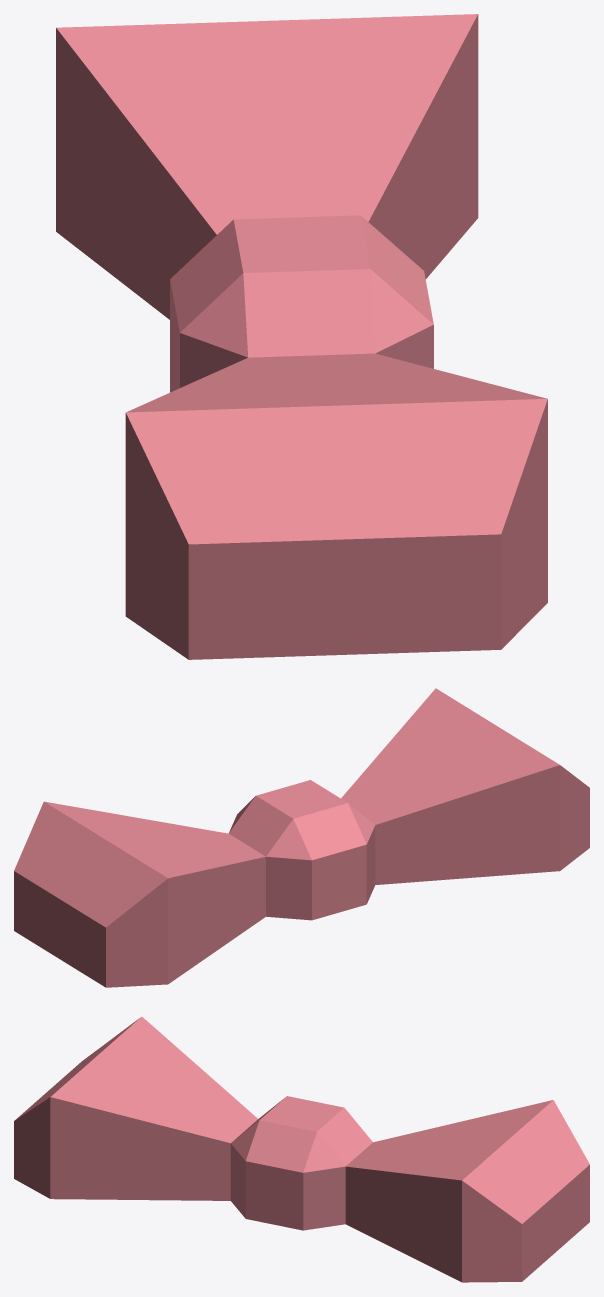
Rendered from SM_bow_01a.fbx.
3 views of the same model, one above another, from view 1: azimuth 30°, elevation 25°; view 2: azimuth 150°, elevation 25°; view 3: azimuth 270°, elevation 25° (orthographic). The views are drawn at different scales.
Visible parts, largest first — view 1: pCube28; view 2: pCube28; view 3: pCube28.
Boxes of the visible parts, box(x1,y1,x2,y2) form: pCube28: box(56, 14, 547, 659); pCube28: box(14, 688, 589, 987); pCube28: box(14, 1016, 589, 1282).
Bounding box in the file's own units: 1.51 × 0.4369 × 2.23.
